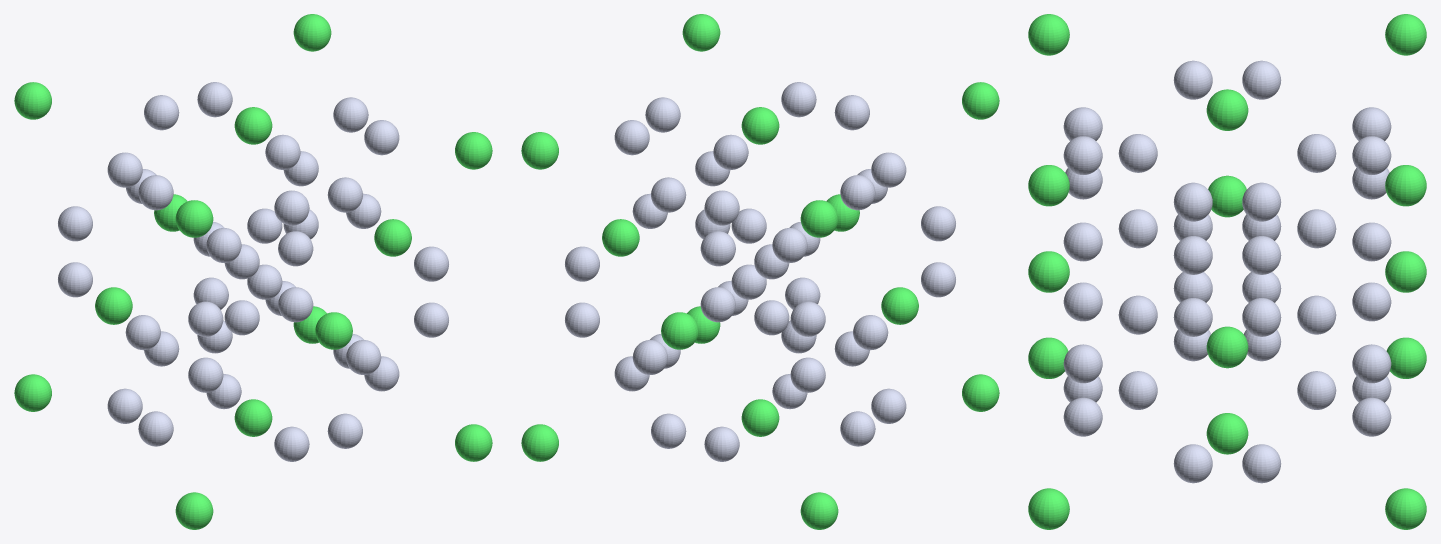
3 views of the same model, side by side, from view 1: azimuth 30°, elevation 25°; view 2: azimuth 150°, elevation 25°; view 3: azimuth 270°, elevation 25° (orthographic). The views are drawn at different scales.
Parts seen in each view (by area): view 1: atom0_IndexedFaceSet.012, atom0_IndexedFaceSet.013, atom0_IndexedFaceSet.002, atom0_IndexedFaceSet.003, atom0_IndexedFaceSet.004, atom0_IndexedFaceSet.001, atom0_IndexedFaceSet.006, atom0_IndexedFaceSet, atom0_IndexedFaceSet.007, atom0_IndexedFaceSet.008, atom0_IndexedFaceSet.009, atom0_IndexedFaceSet.011 (+37 smaller); view 2: atom0_IndexedFaceSet.012, atom0_IndexedFaceSet.013, atom0_IndexedFaceSet, atom0_IndexedFaceSet.001, atom0_IndexedFaceSet.006, atom0_IndexedFaceSet.003, atom0_IndexedFaceSet.004, atom0_IndexedFaceSet.002, atom0_IndexedFaceSet.005, atom0_IndexedFaceSet.008, atom0_IndexedFaceSet.009, atom0_IndexedFaceSet.010 (+37 smaller); view 3: atom0_IndexedFaceSet.009, atom0_IndexedFaceSet.010, atom0_IndexedFaceSet.011, atom0_IndexedFaceSet, atom0_IndexedFaceSet.002, atom0_IndexedFaceSet.005, atom0_IndexedFaceSet.007, atom0_IndexedFaceSet.012, atom0_IndexedFaceSet.013, atom0_IndexedFaceSet.004, atom0_IndexedFaceSet.006, atom0_IndexedFaceSet.001 (+42 smaller).
Boxes of the visible parts, bbox=[...] form: atom0_IndexedFaceSet.012: bbox=[234, 107, 272, 144]; atom0_IndexedFaceSet.013: bbox=[234, 399, 272, 436]; atom0_IndexedFaceSet.002: bbox=[175, 200, 213, 237]; atom0_IndexedFaceSet.003: bbox=[175, 492, 213, 529]; atom0_IndexedFaceSet.004: bbox=[293, 14, 331, 51]; atom0_IndexedFaceSet.001: bbox=[14, 374, 51, 411]; atom0_IndexedFaceSet.006: bbox=[455, 132, 492, 169]; atom0_IndexedFaceSet: bbox=[14, 82, 51, 119]; atom0_IndexedFaceSet.007: bbox=[455, 424, 492, 461]; atom0_IndexedFaceSet.008: bbox=[95, 287, 132, 324]; atom0_IndexedFaceSet.009: bbox=[374, 219, 411, 256]; atom0_IndexedFaceSet.011: bbox=[315, 312, 352, 349]; atom0_IndexedFaceSet.012: bbox=[741, 107, 779, 144]; atom0_IndexedFaceSet.013: bbox=[741, 399, 779, 436]; atom0_IndexedFaceSet: bbox=[800, 200, 838, 237]; atom0_IndexedFaceSet.001: bbox=[800, 492, 838, 529]; atom0_IndexedFaceSet.006: bbox=[682, 14, 720, 51]; atom0_IndexedFaceSet.003: bbox=[962, 374, 999, 411]; atom0_IndexedFaceSet.004: bbox=[521, 132, 558, 169]; atom0_IndexedFaceSet.002: bbox=[962, 82, 999, 119]; atom0_IndexedFaceSet.005: bbox=[521, 424, 558, 461]; atom0_IndexedFaceSet.008: bbox=[881, 287, 918, 324]; atom0_IndexedFaceSet.009: bbox=[602, 219, 639, 256]; atom0_IndexedFaceSet.010: bbox=[661, 312, 698, 349]; atom0_IndexedFaceSet.009: bbox=[1206, 326, 1248, 368]; atom0_IndexedFaceSet.010: bbox=[1385, 251, 1426, 292]; atom0_IndexedFaceSet.011: bbox=[1028, 251, 1069, 292]; atom0_IndexedFaceSet: bbox=[1385, 14, 1426, 55]; atom0_IndexedFaceSet.002: bbox=[1028, 14, 1069, 55]; atom0_IndexedFaceSet.005: bbox=[1385, 488, 1426, 529]; atom0_IndexedFaceSet.007: bbox=[1028, 488, 1069, 529]; atom0_IndexedFaceSet.012: bbox=[1206, 89, 1248, 130]; atom0_IndexedFaceSet.013: bbox=[1206, 413, 1248, 454]; atom0_IndexedFaceSet.004: bbox=[1385, 165, 1426, 206]; atom0_IndexedFaceSet.006: bbox=[1028, 165, 1069, 206]; atom0_IndexedFaceSet.001: bbox=[1386, 337, 1426, 378].
Bounding box in the file's own units: 679 × 679 × 679.
